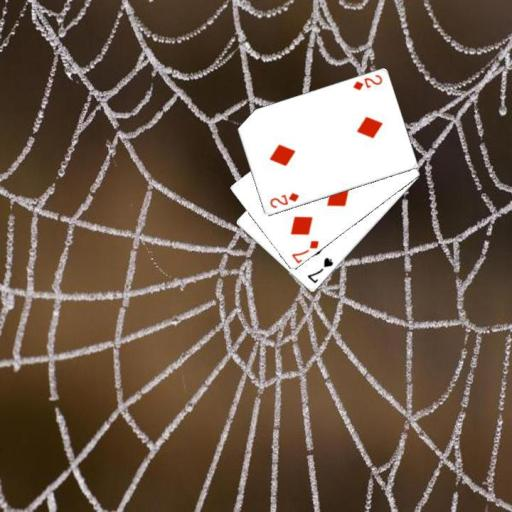2D: (267, 190, 300, 210), (350, 72, 383, 92)
7D: (288, 238, 321, 265)
7S: (304, 255, 335, 285)
